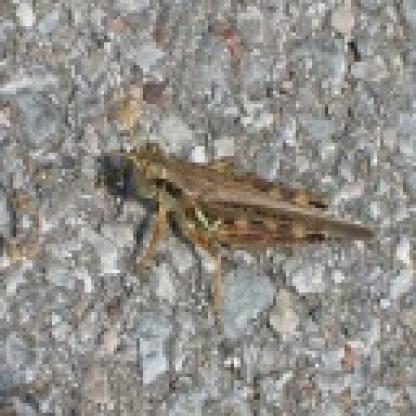grasshopper: (103, 139, 374, 298)
